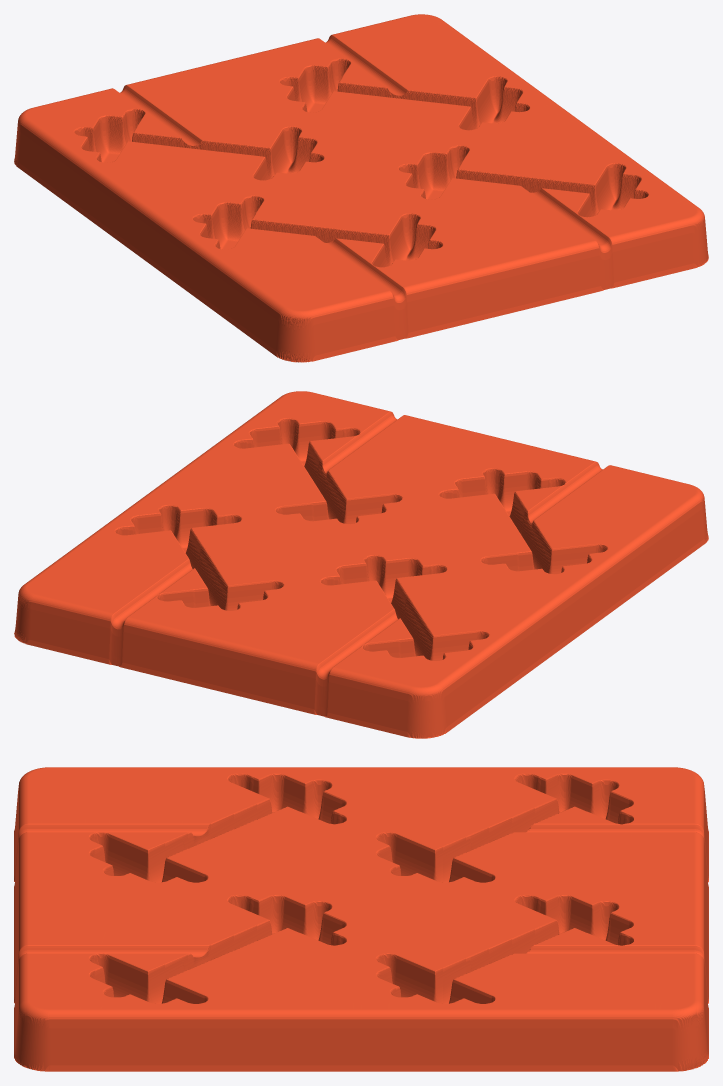
File: mold.glb
3 views of the same model, one above another, from view 1: azimuth 30°, elevation 25°; view 2: azimuth 150°, elevation 25°; view 3: azimuth 270°, elevation 25° (orthographic). The views are drawn at different scales.
Parts seen in each view (by area): view 1: geometry_0; view 2: geometry_0; view 3: geometry_0.
Boxes of the visible parts, x1,y1,x2,y2 form: geometry_0: [14, 14, 708, 362]; geometry_0: [14, 391, 708, 738]; geometry_0: [14, 767, 708, 1071].
Size of the model in its own units: 0.1497 by 0.0155 by 0.1735.
